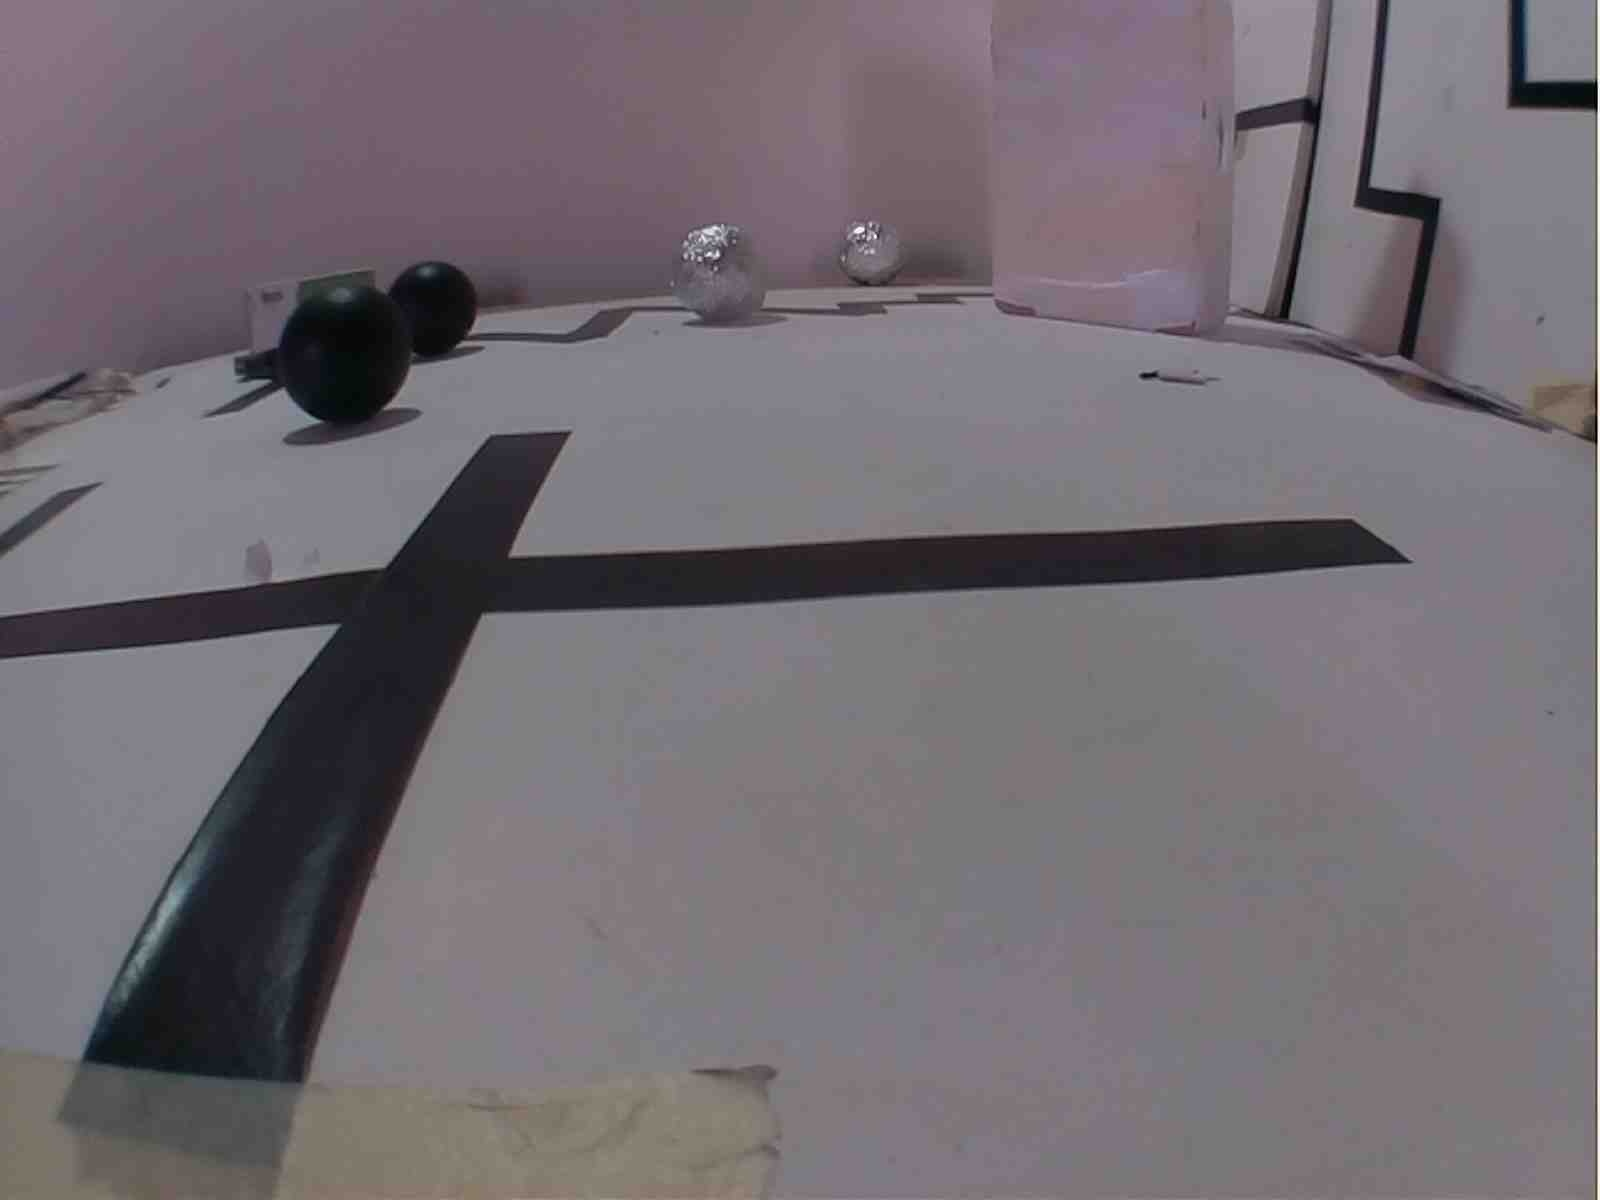bianca: (670, 219, 774, 330), (831, 216, 911, 287)
nera: (271, 286, 413, 429), (384, 258, 479, 361)
